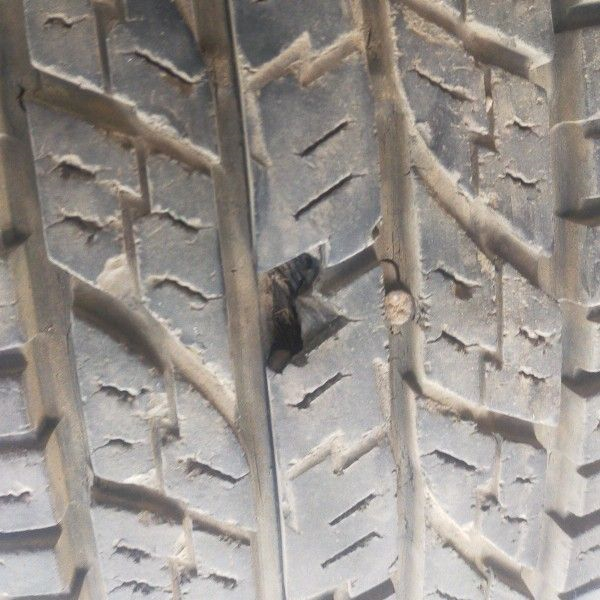tr: (260, 239, 353, 379)
